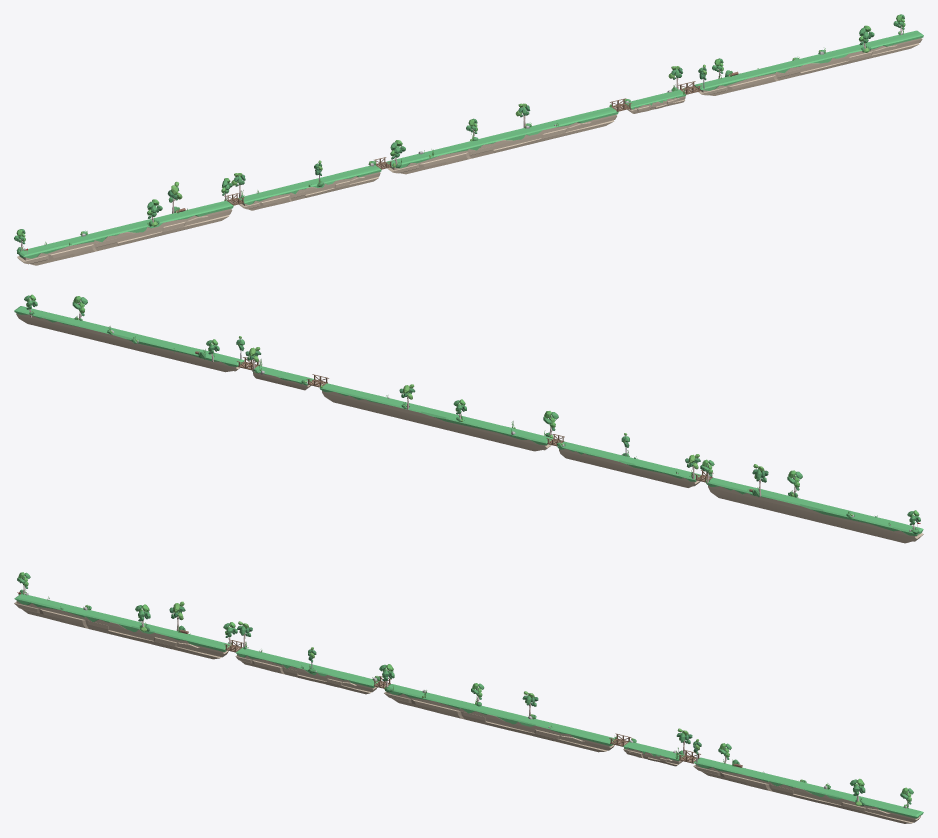
Rendered from Park_Map_lvl_1_LANG.fbx.
The picture shows the model from 3 angles, top to bottom: view 1: azimuth 30°, elevation 25°; view 2: azimuth 150°, elevation 25°; view 3: azimuth 330°, elevation 25°; orthographic projection.
Visible parts, largest first — view 1: polySurface627; view 2: polySurface627; view 3: polySurface627.
Boxes of the visible parts, bbox=[...] form: polySurface627: bbox=[14, 14, 923, 265]; polySurface627: bbox=[14, 294, 923, 543]; polySurface627: bbox=[14, 572, 923, 823].
Size of the model in its own units: 560 by 25.76 by 14.35.
